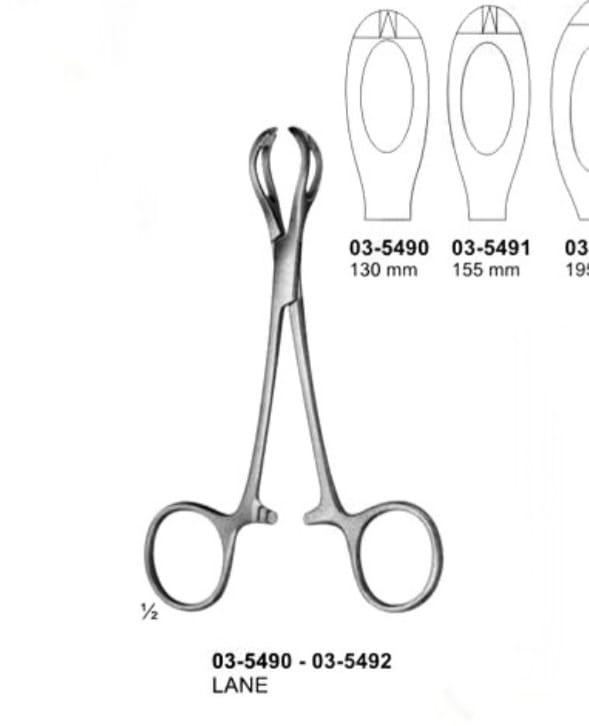Lane Tissue Forceps: (138, 123, 448, 621)
